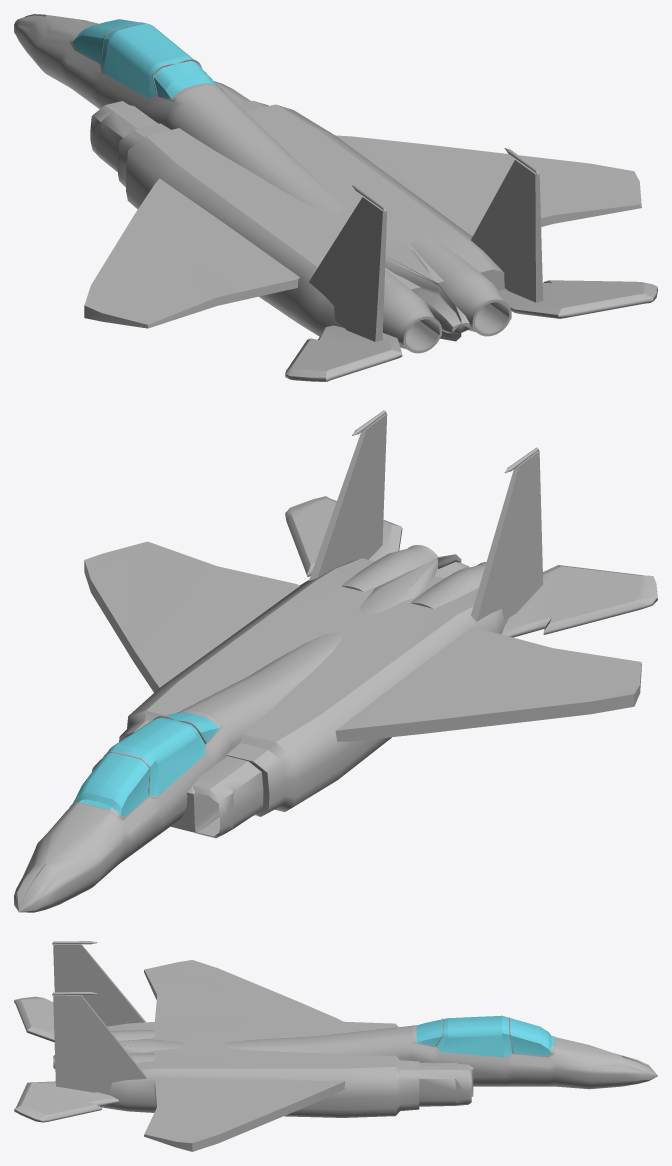
3 renders of one model, top to bottom at view 1: azimuth 30°, elevation 25°; view 2: azimuth 150°, elevation 25°; view 3: azimuth 270°, elevation 25°, orthographic. The views are drawn at different scales.
Parts seen in each view (by area): view 1: Cube; view 2: Cube; view 3: Cube.
Boxes of the visible parts, <box> form: Cube: <box>14,14,657,381</box>; Cube: <box>14,410,657,912</box>; Cube: <box>14,941,657,1151</box>.
Size of the model in its own units: 2.18 by 0.692 by 3.24.
